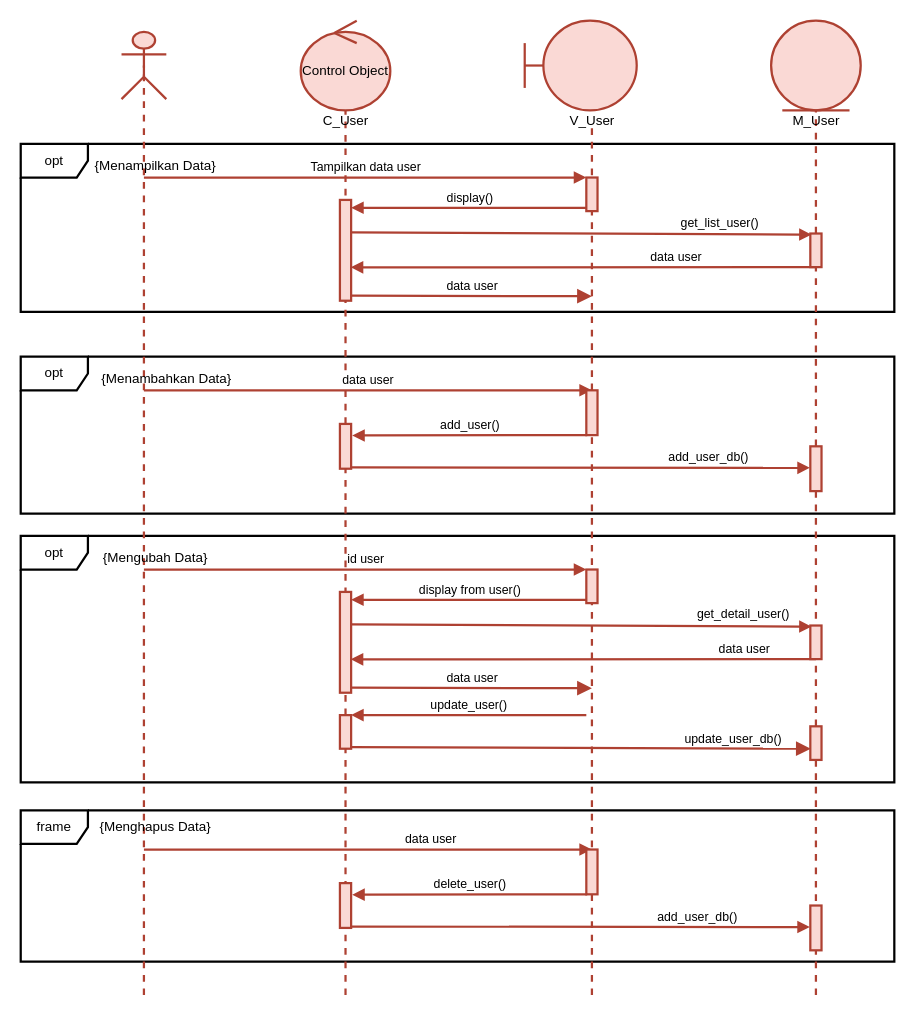
Image size: 914x1016. Some labels were removed from this diagram. Each missing label, with the box of its shape:
Actor: (120, 30, 167, 100)
Boundary Object: (523, 19, 637, 111)
Entity Object: (769, 19, 861, 111)
